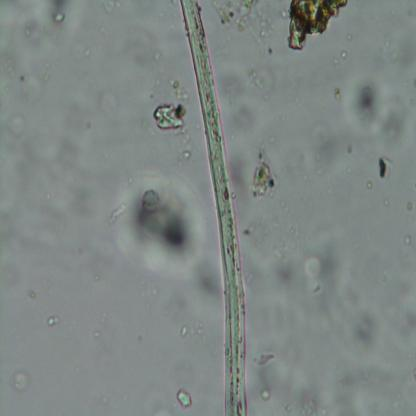Background material: (114, 172, 205, 270), (14, 141, 100, 232), (275, 101, 343, 190), (348, 72, 406, 148), (0, 20, 55, 97), (222, 64, 277, 129), (286, 0, 348, 51), (296, 234, 342, 302), (250, 215, 294, 283), (143, 41, 192, 96), (217, 2, 271, 49), (285, 366, 326, 416), (344, 304, 378, 363), (249, 144, 278, 200), (176, 314, 211, 340), (154, 104, 186, 132), (7, 361, 31, 394), (199, 269, 223, 300), (92, 88, 120, 111), (49, 0, 70, 30), (377, 155, 394, 181), (327, 46, 344, 70), (255, 350, 277, 368), (176, 388, 193, 410), (11, 117, 27, 139), (100, 0, 121, 16), (258, 386, 274, 401), (362, 175, 374, 194), (47, 314, 60, 327), (331, 88, 343, 102), (148, 285, 158, 300), (25, 287, 37, 299), (403, 233, 411, 248), (405, 202, 414, 213)
Microfibre: (180, 0, 248, 414)
